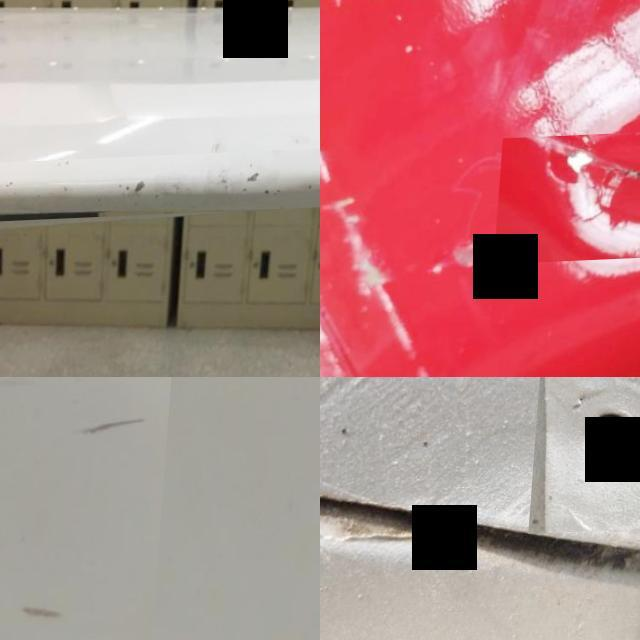Crack: (0, 377, 178, 640), (0, 143, 320, 224), (500, 129, 640, 266)
Missing_Fastener: (536, 377, 640, 536)
